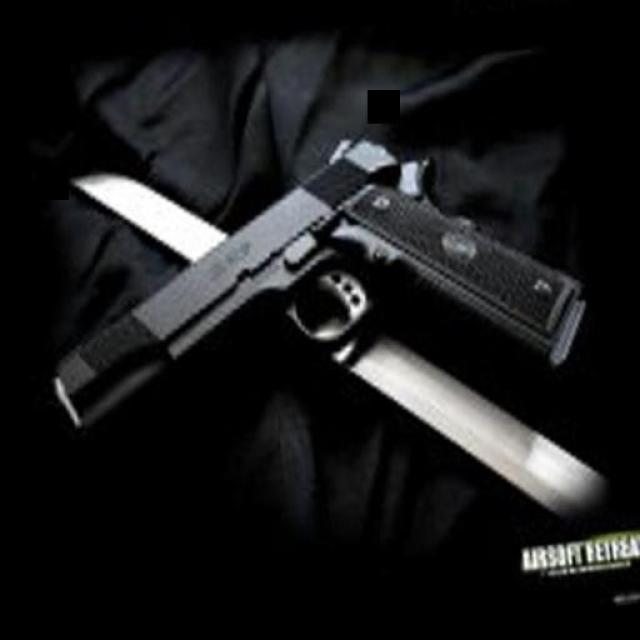gun: (4, 104, 598, 444)
